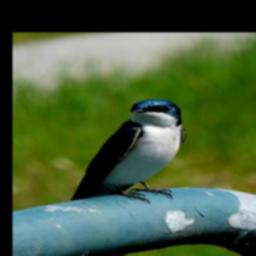Swallow: (70, 97, 189, 204)
